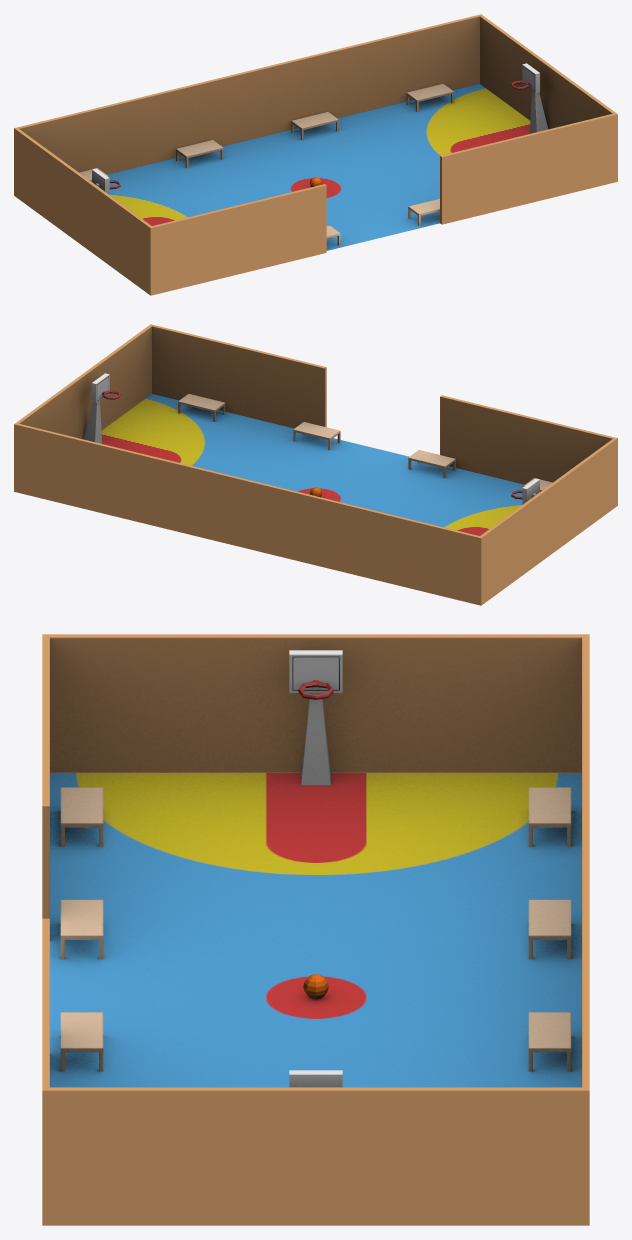
File: basketball.fbx
The picture shows the model from 3 angles, top to bottom: view 1: azimuth 30°, elevation 25°; view 2: azimuth 150°, elevation 25°; view 3: azimuth 270°, elevation 25°; orthographic projection. The views are drawn at different scales.
Visible parts, largest first — view 1: polySurface33; view 2: polySurface33; view 3: polySurface33.
Boxes of the visible parts, x1,y1,x2,y2 form: polySurface33: [14, 14, 617, 295]; polySurface33: [14, 324, 617, 605]; polySurface33: [42, 634, 589, 1225].
Size of the model in its own units: 50.71 by 7.05 by 25.71.
